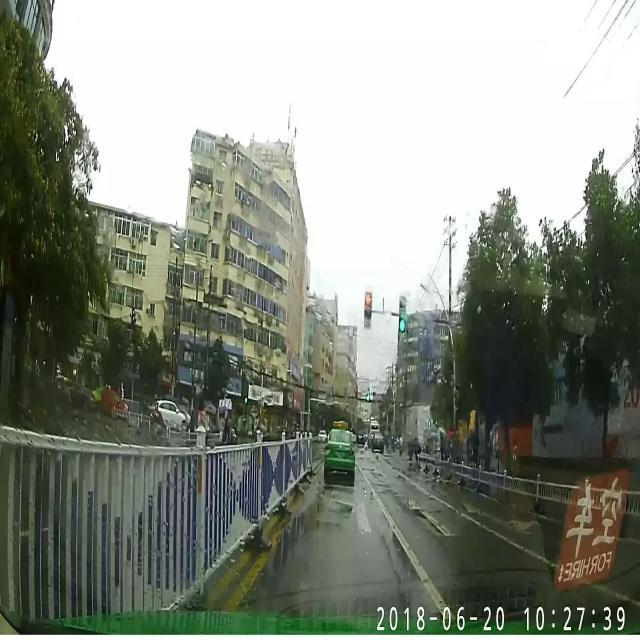car: (326, 422, 354, 479), (372, 435, 384, 448)
